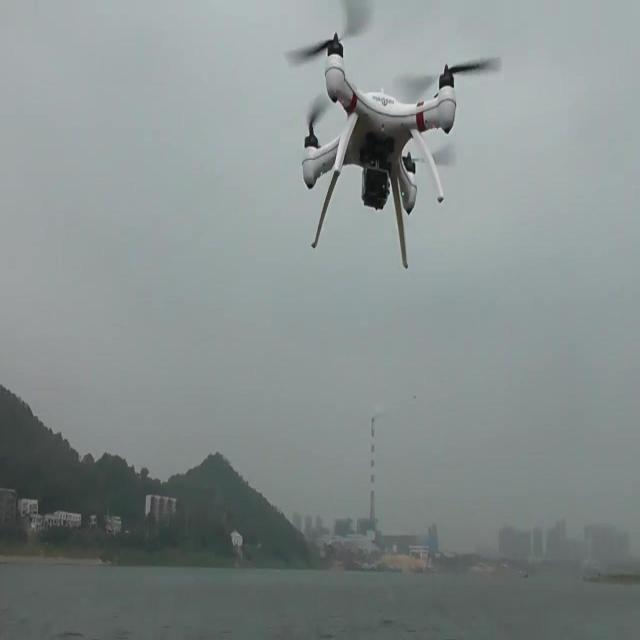drone: (301, 29, 473, 276)
